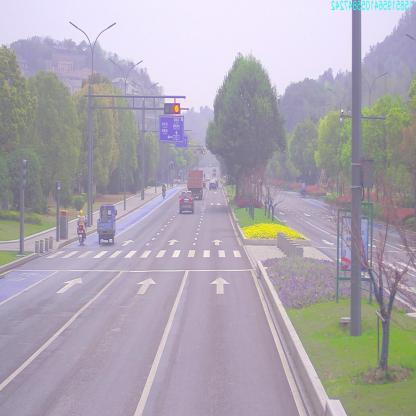traffic-light: (165, 103, 179, 112)
